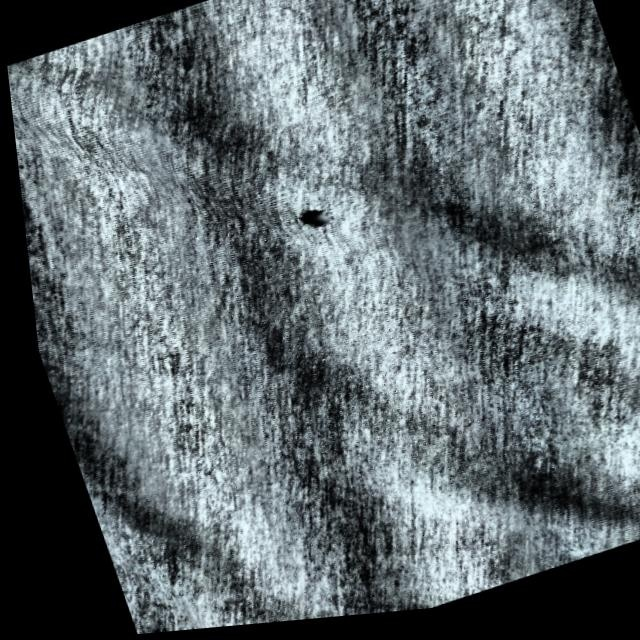Hole: (276, 190, 349, 248)
